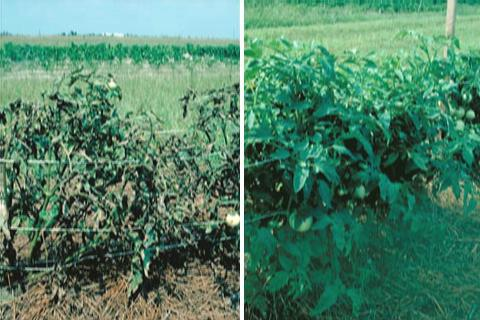Tomato leaf bacterial spot: (287, 161, 310, 197), (324, 219, 348, 253), (353, 123, 374, 160), (313, 96, 336, 122), (377, 177, 397, 204)
